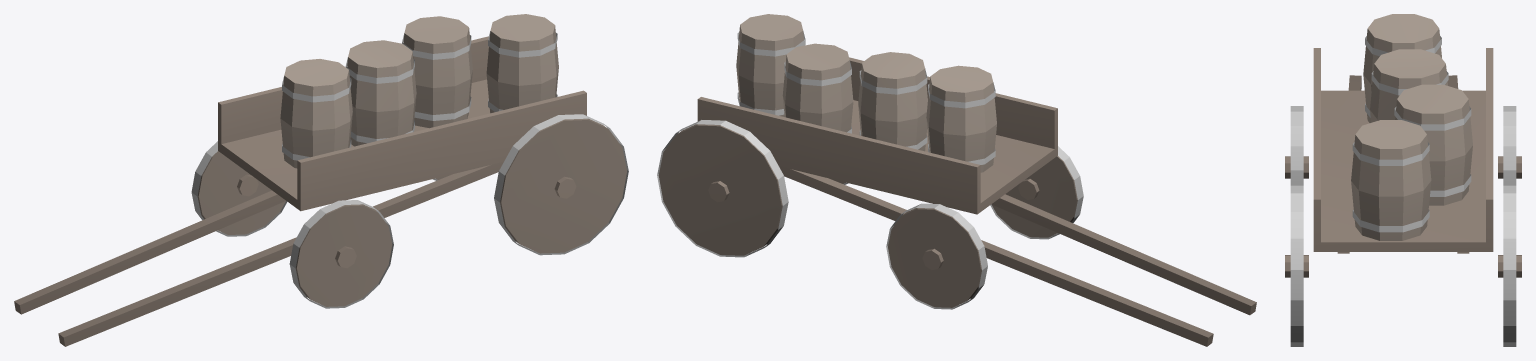
File: wagon_1.glb
3 renders of one model, left to right at view 1: azimuth 30°, elevation 25°; view 2: azimuth 150°, elevation 25°; view 3: azimuth 270°, elevation 25°, orthographic. The views are drawn at different scales.
Visible parts, largest first — view 1: wagon_1; view 2: wagon_1; view 3: wagon_1.
Part boxes in pixels (x1,y1,x2,y2): wagon_1: [14, 14, 628, 346]; wagon_1: [657, 14, 1256, 346]; wagon_1: [1285, 14, 1521, 346].
Size of the model in its own units: 5.63 by 1.91 by 1.98.
